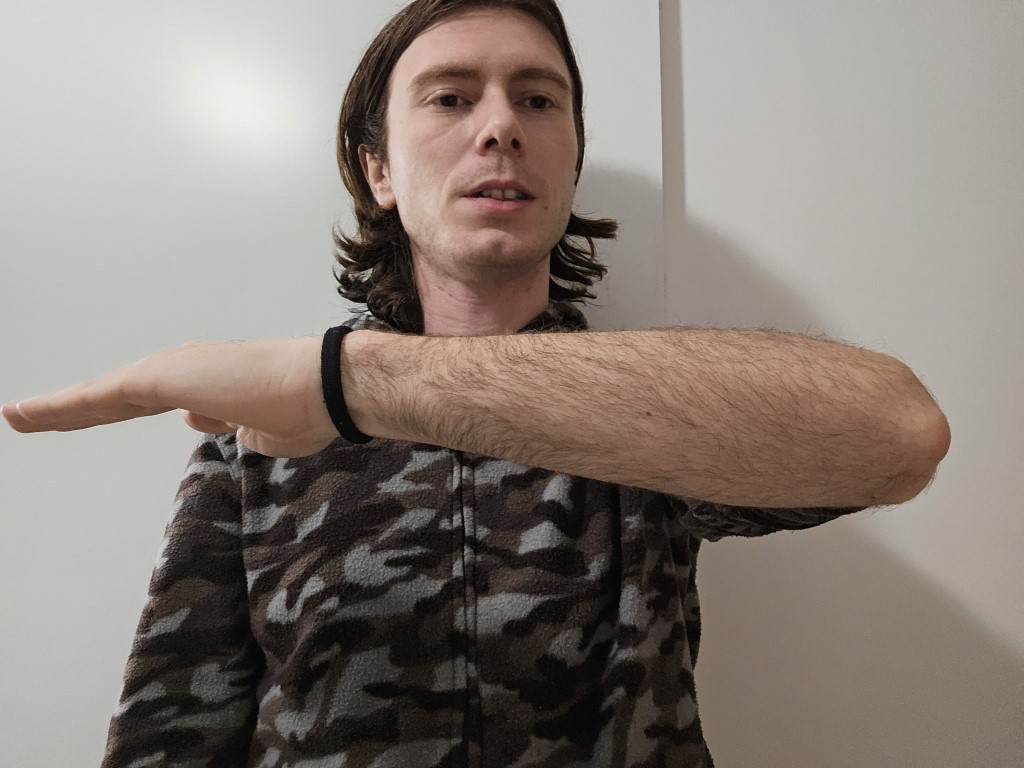space: (1, 315, 976, 527)
